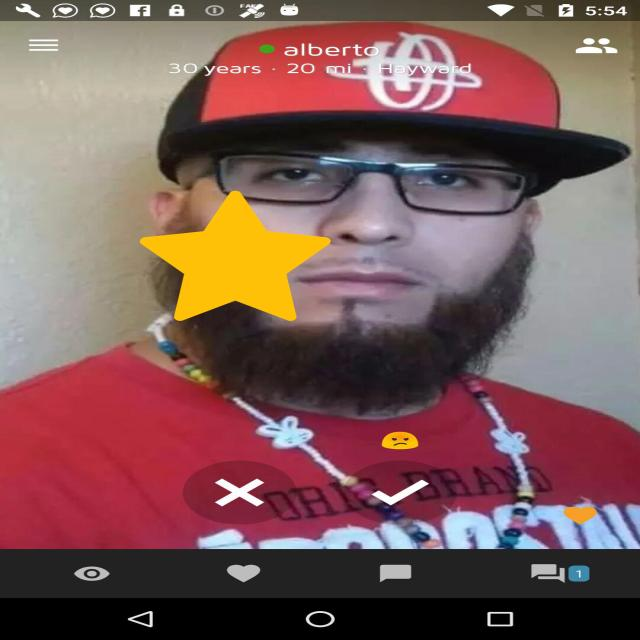forced continuity: (140, 191, 331, 321)
